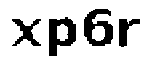6: (82, 6, 116, 48)
p: (45, 16, 78, 60)
r: (117, 17, 146, 48)
x: (9, 16, 42, 50)
